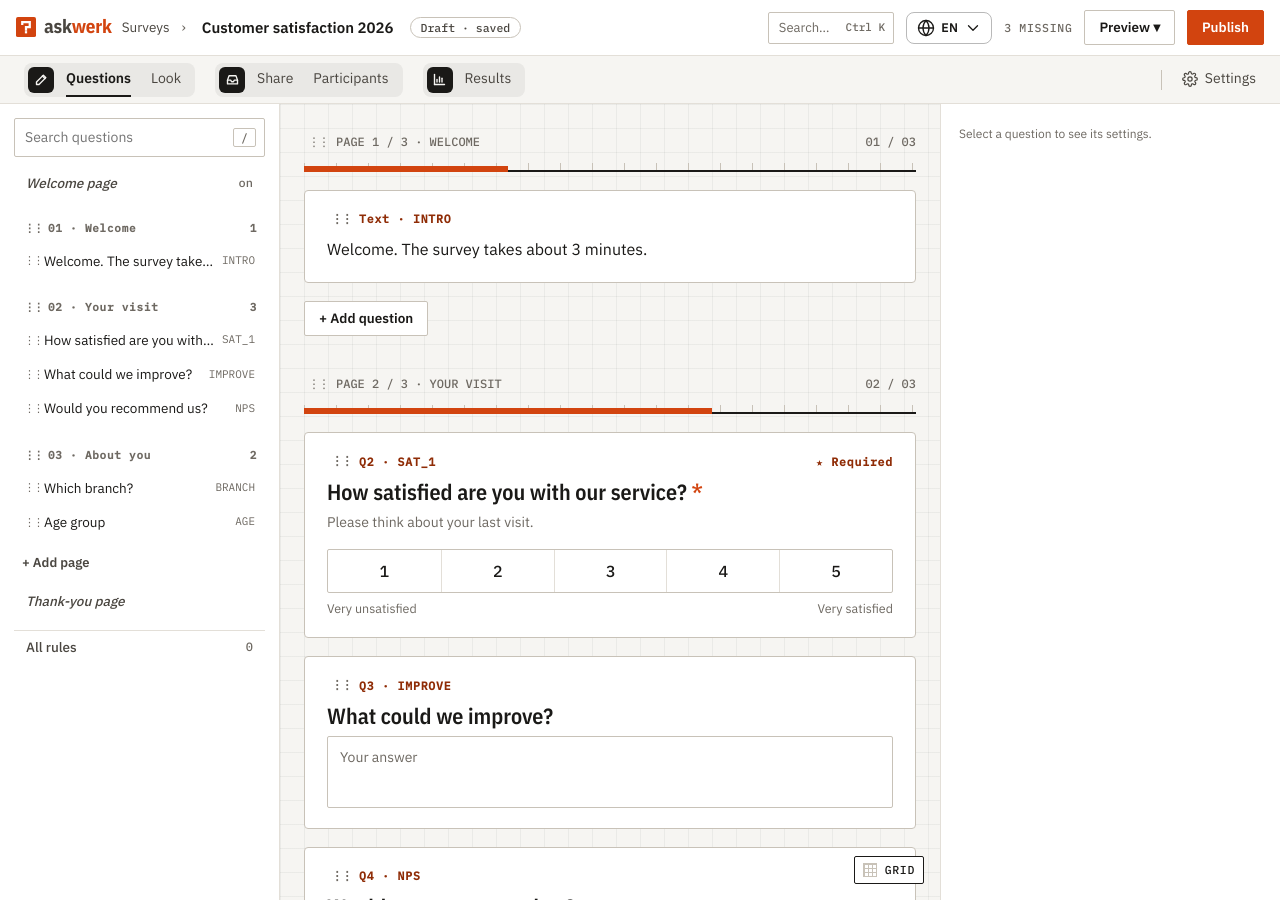
Scenario: A page's logic (AWK-31, W19 B) › jumps forward under a condition
The width and height of the screenshot is (1280, 900).
expect the navigation bar named "Outline" is shown: met, box x1=0 y1=104 x2=280 y2=899
Click the button "02 · Your visit" at (134, 307), box x1=22 y1=298 x2=246 y2=317
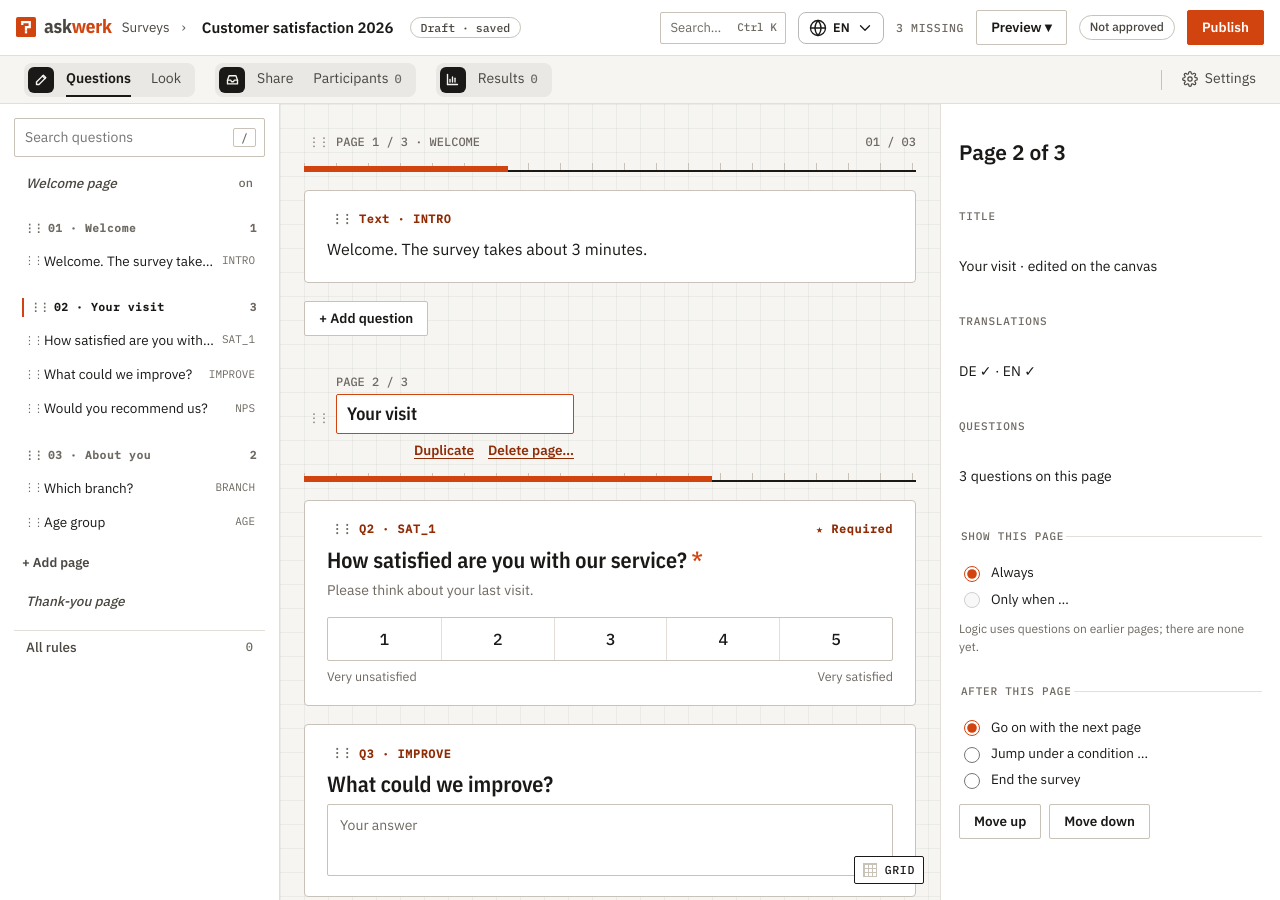
Click the radio button labelled "Jump under a condition …" at (972, 755), box x1=964 y1=747 x2=980 y2=763
(page scrolled)
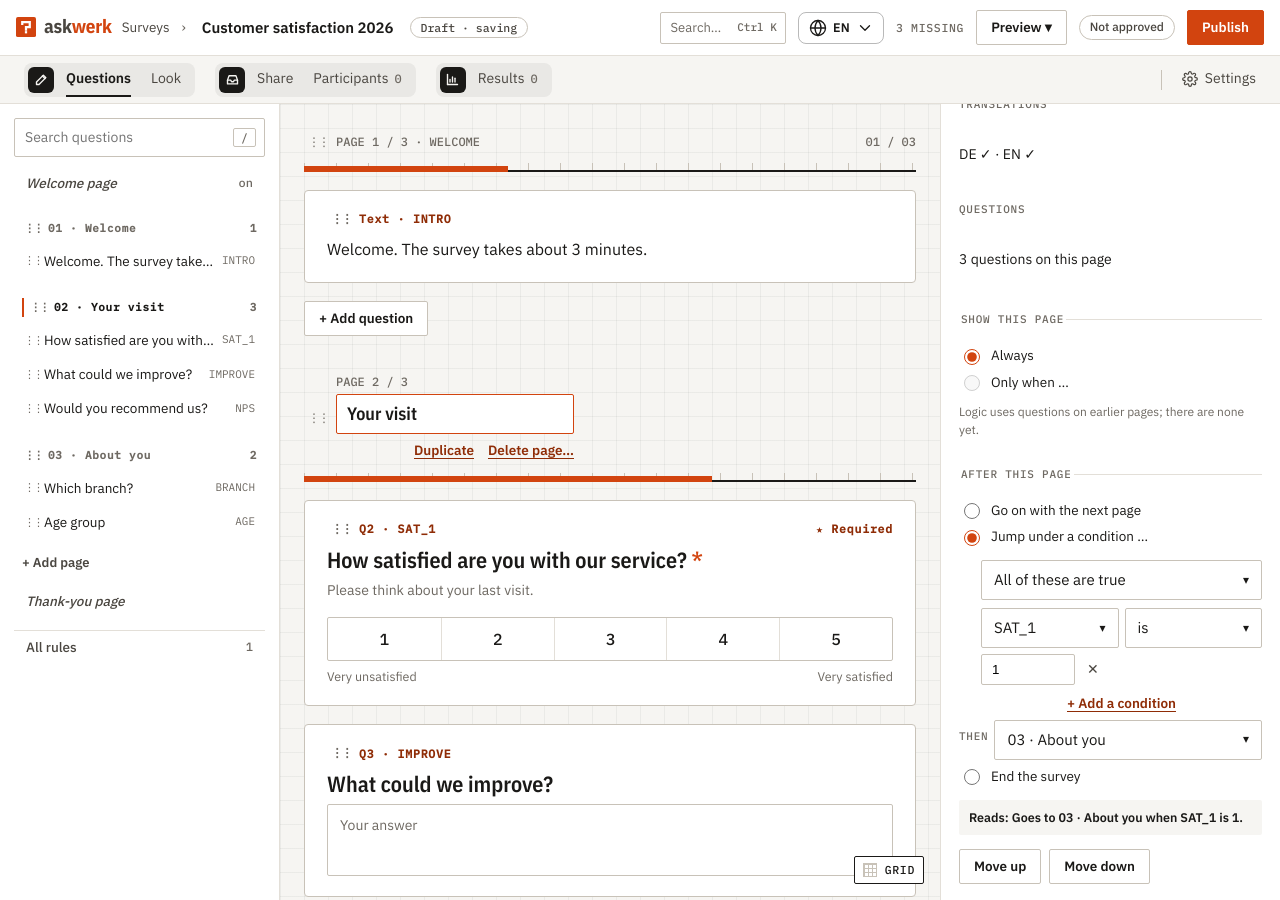
Click the button named "Then" at (1057, 739), box x1=994 y1=720 x2=1262 y2=760
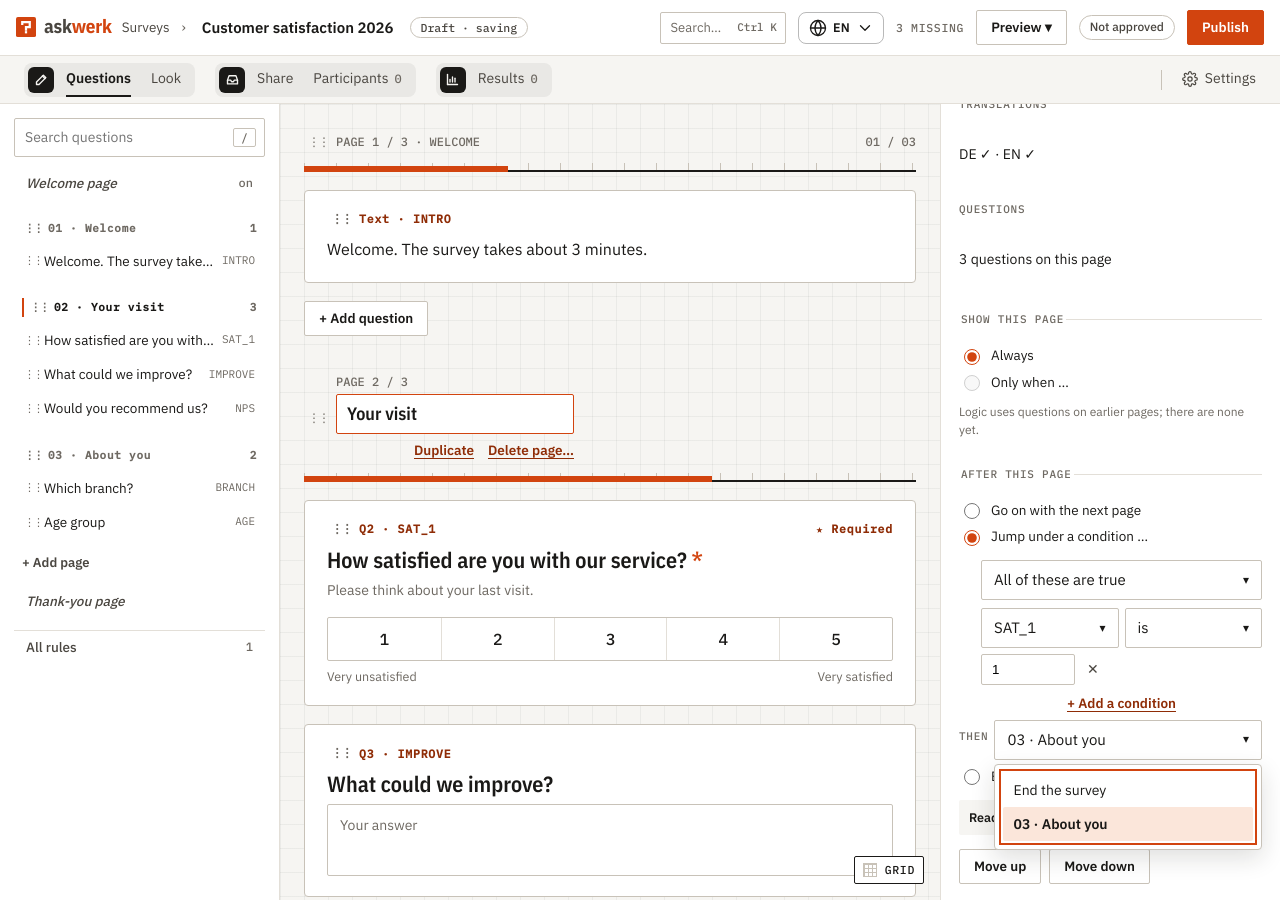
Click the option "End the survey" at (1060, 790), box x1=1014 y1=781 x2=1106 y2=799
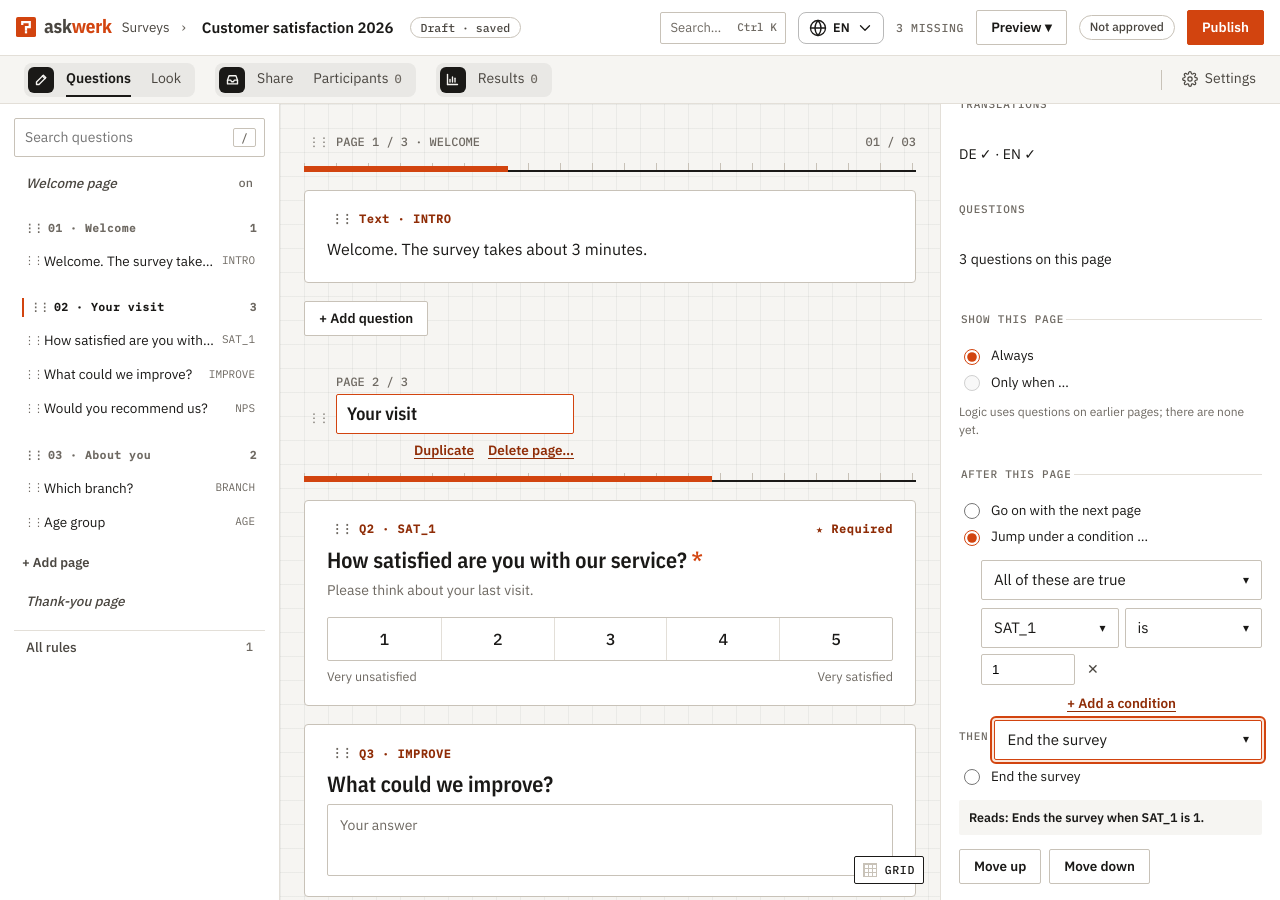
expect the text "Reads: Ends the survey when SAT_1 is 1." is shown: met, box x1=959 y1=800 x2=1262 y2=835
